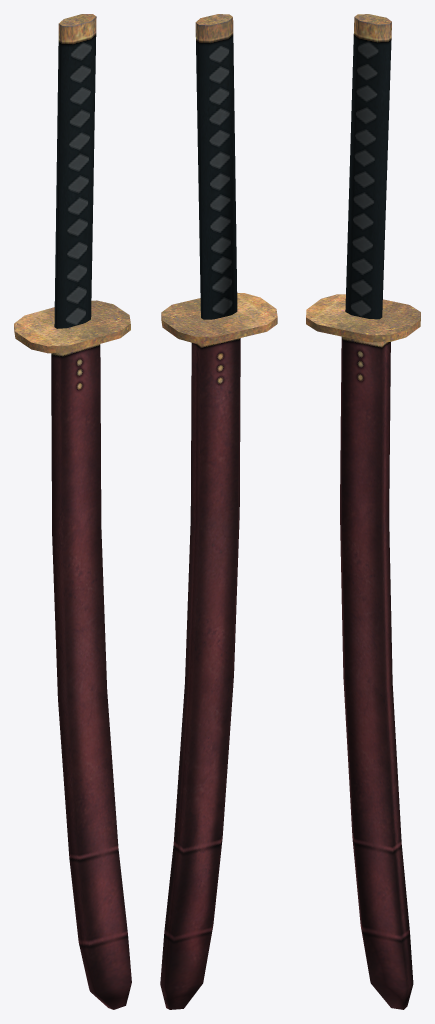
Rendered from Katana.FBX.
3 views of the same model, side by side, from view 1: azimuth 30°, elevation 25°; view 2: azimuth 210°, elevation 25°; view 3: azimuth 330°, elevation 25° (orthographic).
Visible parts, largest first — view 1: Katana_Skabbard, Katana; view 2: Katana_Skabbard, Katana; view 3: Katana_Skabbard, Katana.
Part boxes in pixels (x1,y1,x2,y2): Katana_Skabbard: [51, 344, 131, 1009]; Katana: [14, 14, 130, 353]; Katana_Skabbard: [160, 338, 240, 1009]; Katana: [161, 14, 277, 343]; Katana_Skabbard: [340, 336, 413, 1009]; Katana: [306, 14, 420, 342].
Bounding box in the file's own units: 12.95 × 121 × 9.64.
